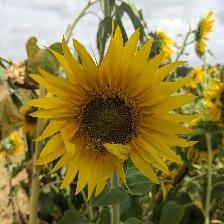sunflower: (44, 52, 182, 186)
